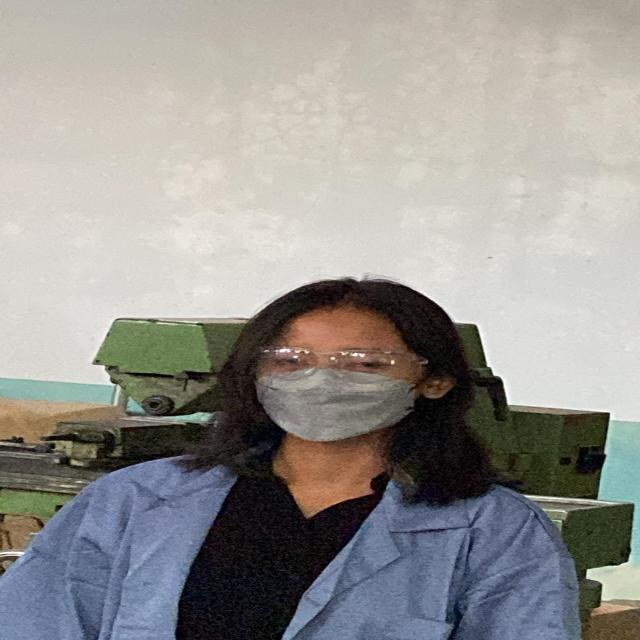glasses: (250, 342, 427, 383)
